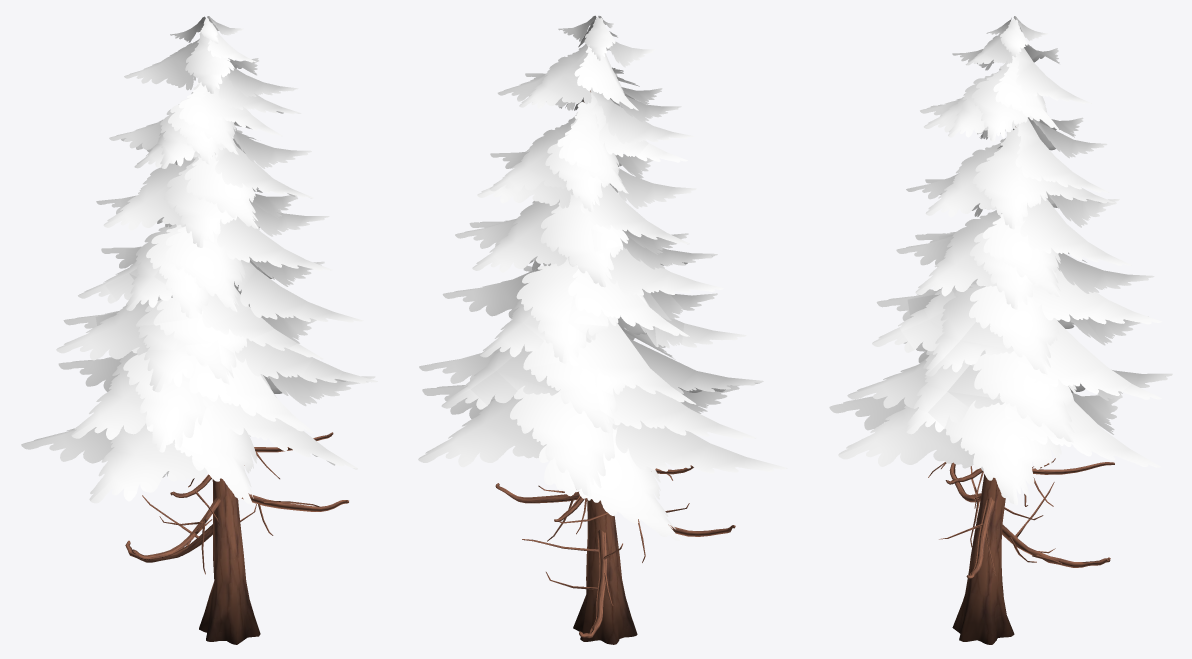
The model's file is Pine_4.glb.
3 renders of one model, left to right at view 1: azimuth 30°, elevation 25°; view 2: azimuth 150°, elevation 25°; view 3: azimuth 270°, elevation 25°, orthographic. The views are drawn at different scales.
Parts seen in each view (by area): view 1: Pine_4; view 2: Pine_4; view 3: Pine_4.
Boxes of the visible parts, x1,y1,x2,y2 form: Pine_4: (21,16,377,644); Pine_4: (418,15,787,644); Pine_4: (829,16,1172,644).
Bounding box in the file's own units: 5.8 × 10.24 × 5.37.
Materials: 2 (2 with a texture image).
